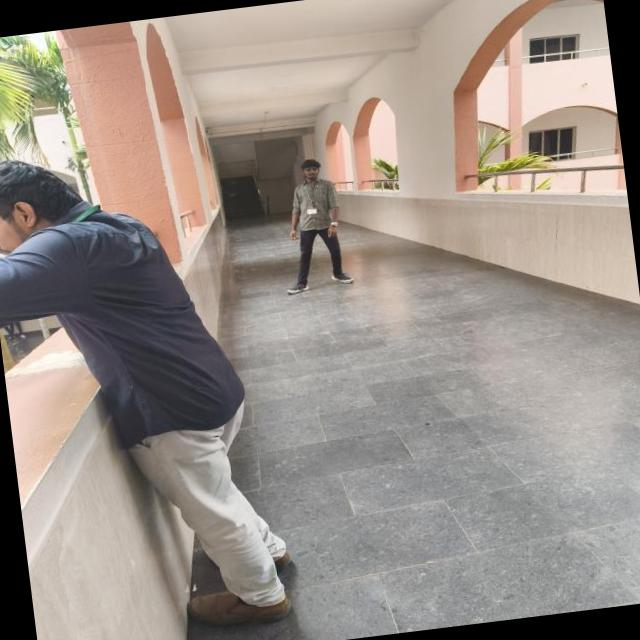id_card: (302, 170, 321, 216)
